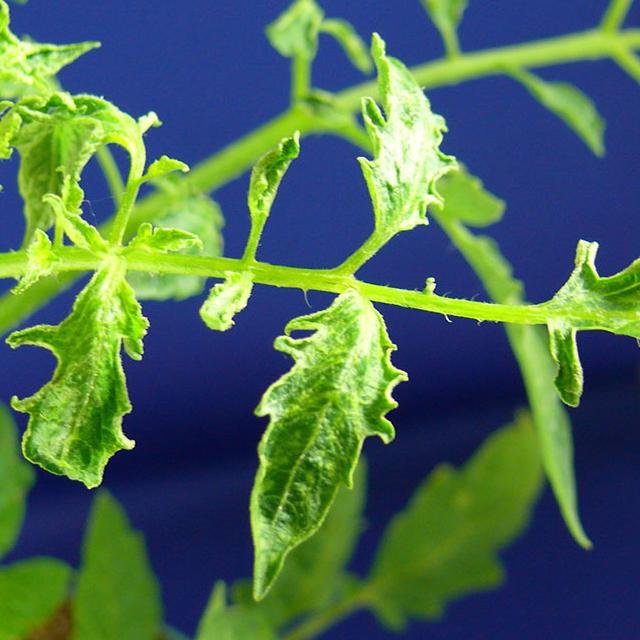Tomato leaf mosaic virus: (217, 288, 425, 610), (0, 264, 184, 507), (346, 23, 467, 243), (518, 241, 640, 398)
